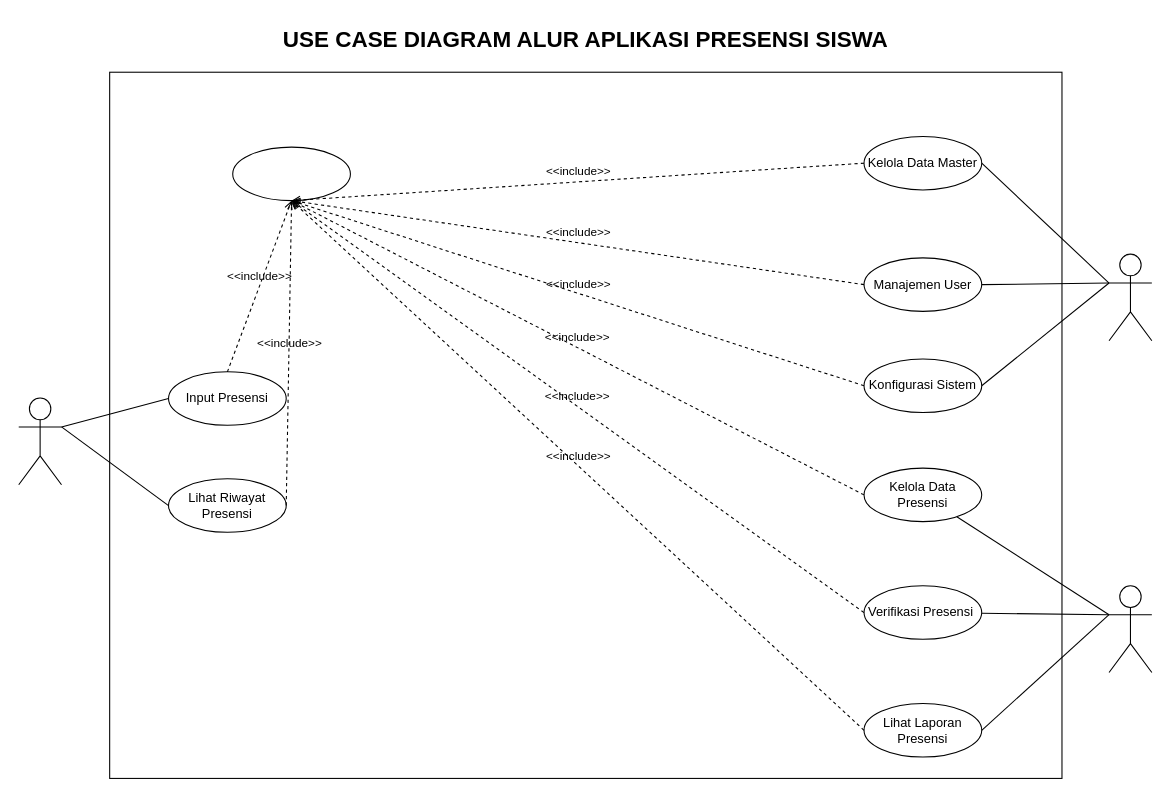
Image size: 1171x797. Some labels were removed from this diagram. Each missing label, with the centre of its shape:
Admin: [1130,297]
Guru: [1130,628]
Login: [291,173]
Siswa: [40,441]
